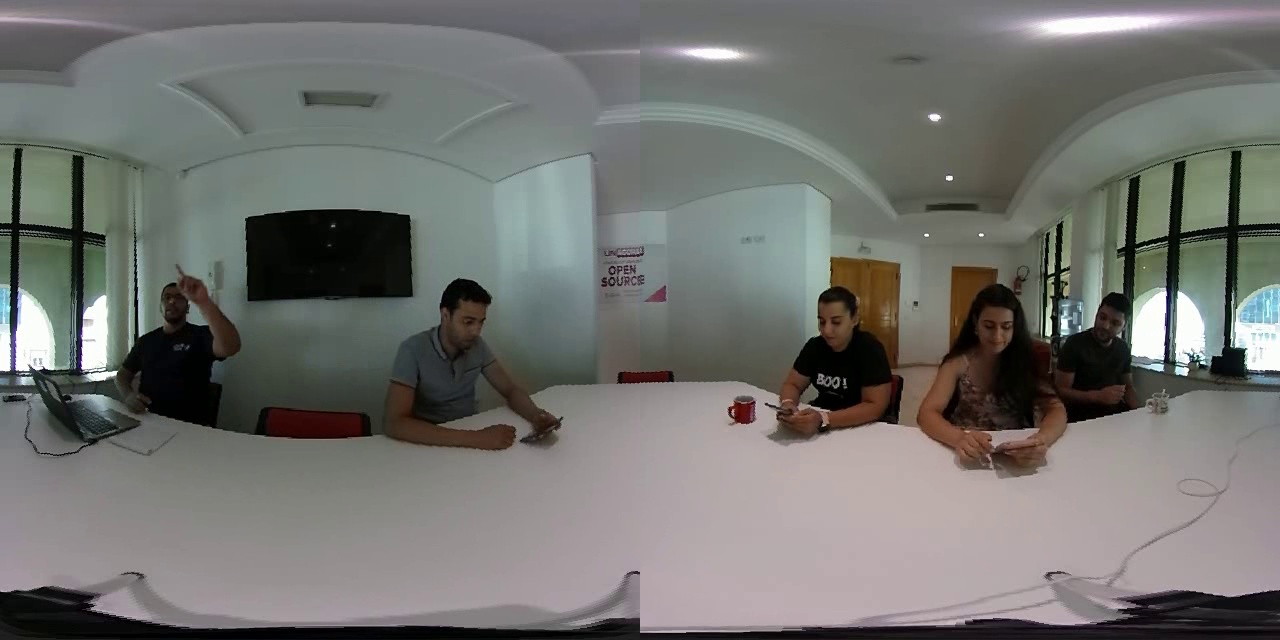person: (912, 272, 1053, 463), (378, 271, 513, 459), (108, 259, 247, 435), (772, 267, 894, 440), (1054, 285, 1143, 430)
speaking: (173, 255, 242, 367)
